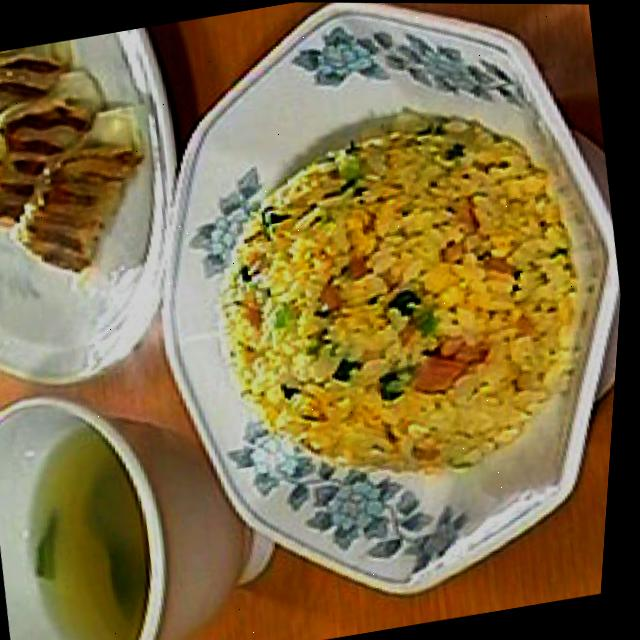带馅早点: (0, 29, 166, 288)
米饭主食: (84, 1, 640, 633)
